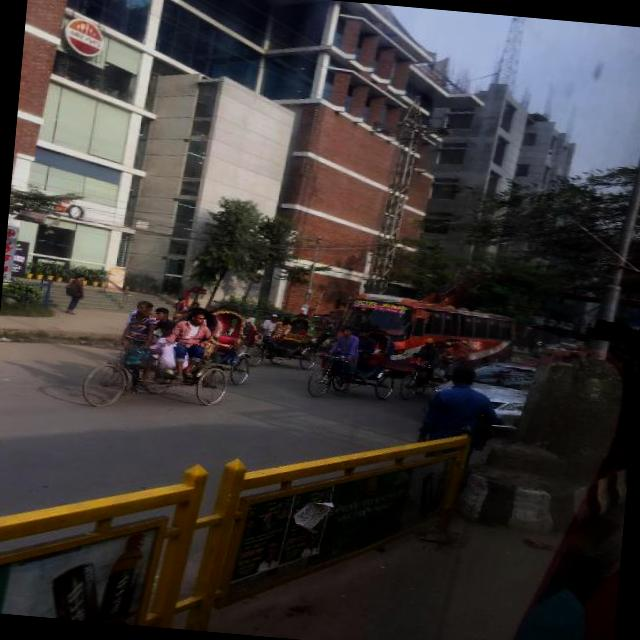bus: (336, 292, 520, 374)
car: (418, 354, 546, 434)
motorcycle: (82, 297, 236, 414), (310, 322, 400, 404), (249, 308, 322, 369), (212, 307, 258, 388)
truck: (560, 336, 585, 350)
